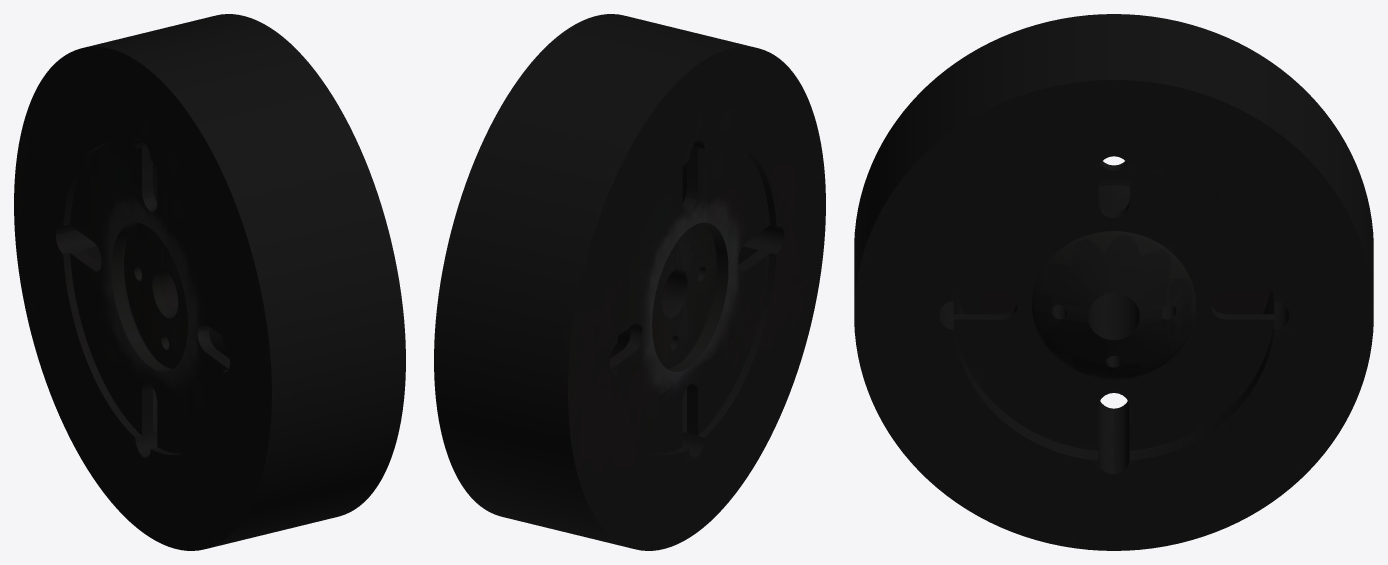
The model's file is wheel_1__wheel_hub.glb.
3 renders of one model, left to right at view 1: azimuth 30°, elevation 25°; view 2: azimuth 150°, elevation 25°; view 3: azimuth 270°, elevation 25°, orthographic.
Visible parts, largest first — view 1: world; view 2: world; view 3: world.
Boxes of the visible parts, x1,y1,x2,y2 form: world: (14, 14, 405, 550); world: (434, 14, 825, 550); world: (854, 14, 1373, 550).
Bounding box in the file's own units: 0.0305 × 0.1 × 0.1.
Materials: 1 (1 with a texture image).
